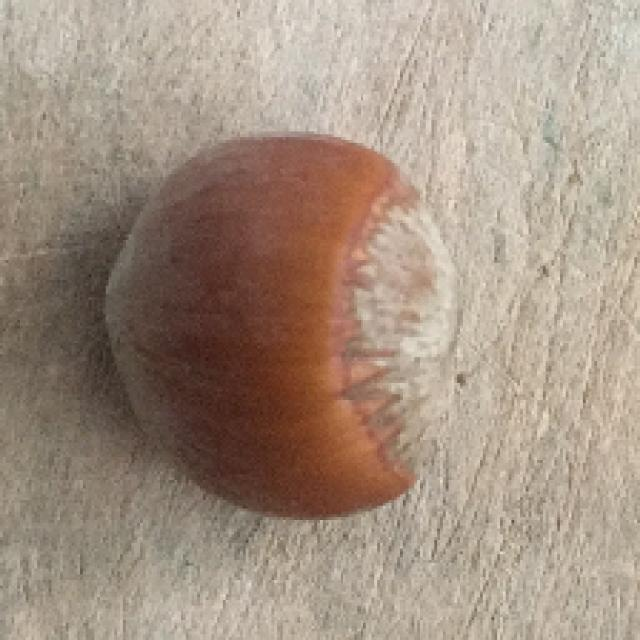qualityHazelnut: (95, 132, 454, 522)
